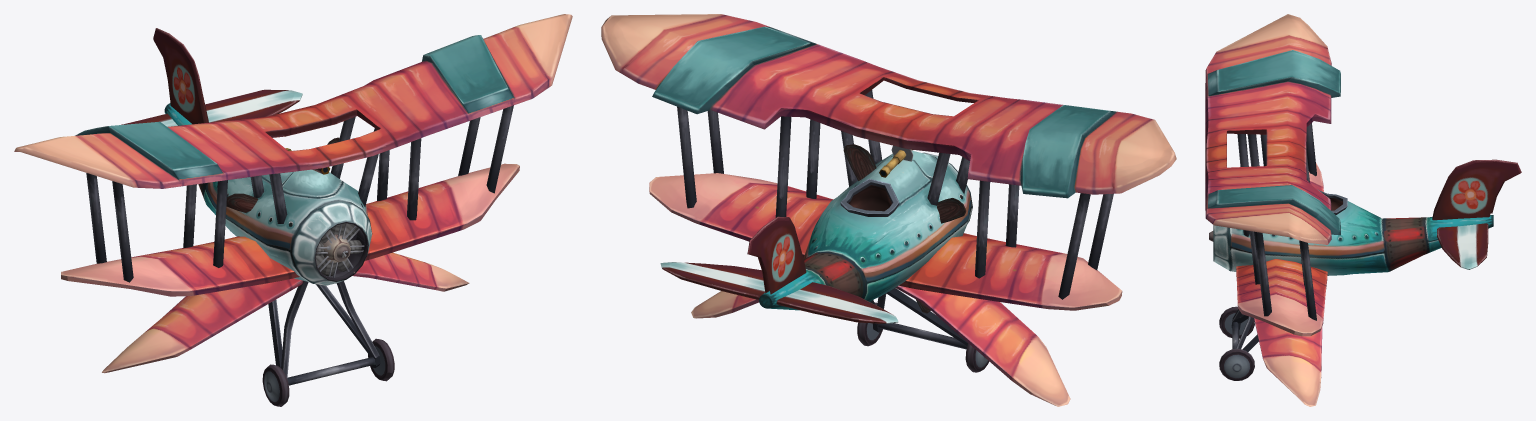
File: Boss08.fbx
The picture shows the model from 3 angles, left to right: view 1: azimuth 30°, elevation 25°; view 2: azimuth 150°, elevation 25°; view 3: azimuth 270°, elevation 25°; orthographic projection. The views are drawn at different scales.
Parts seen in each view (by area): view 1: Boss08, Propeller; view 2: Boss08, Propeller; view 3: Boss08.
Part boxes in pixels (x1,y1,x2,y2): Boss08: (14, 14, 572, 406); Propeller: (226, 137, 339, 212); Boss08: (601, 14, 1176, 406); Propeller: (843, 144, 966, 313); Boss08: (1205, 14, 1521, 406).
Bounding box in the file's own units: 1440 × 717 × 869.
